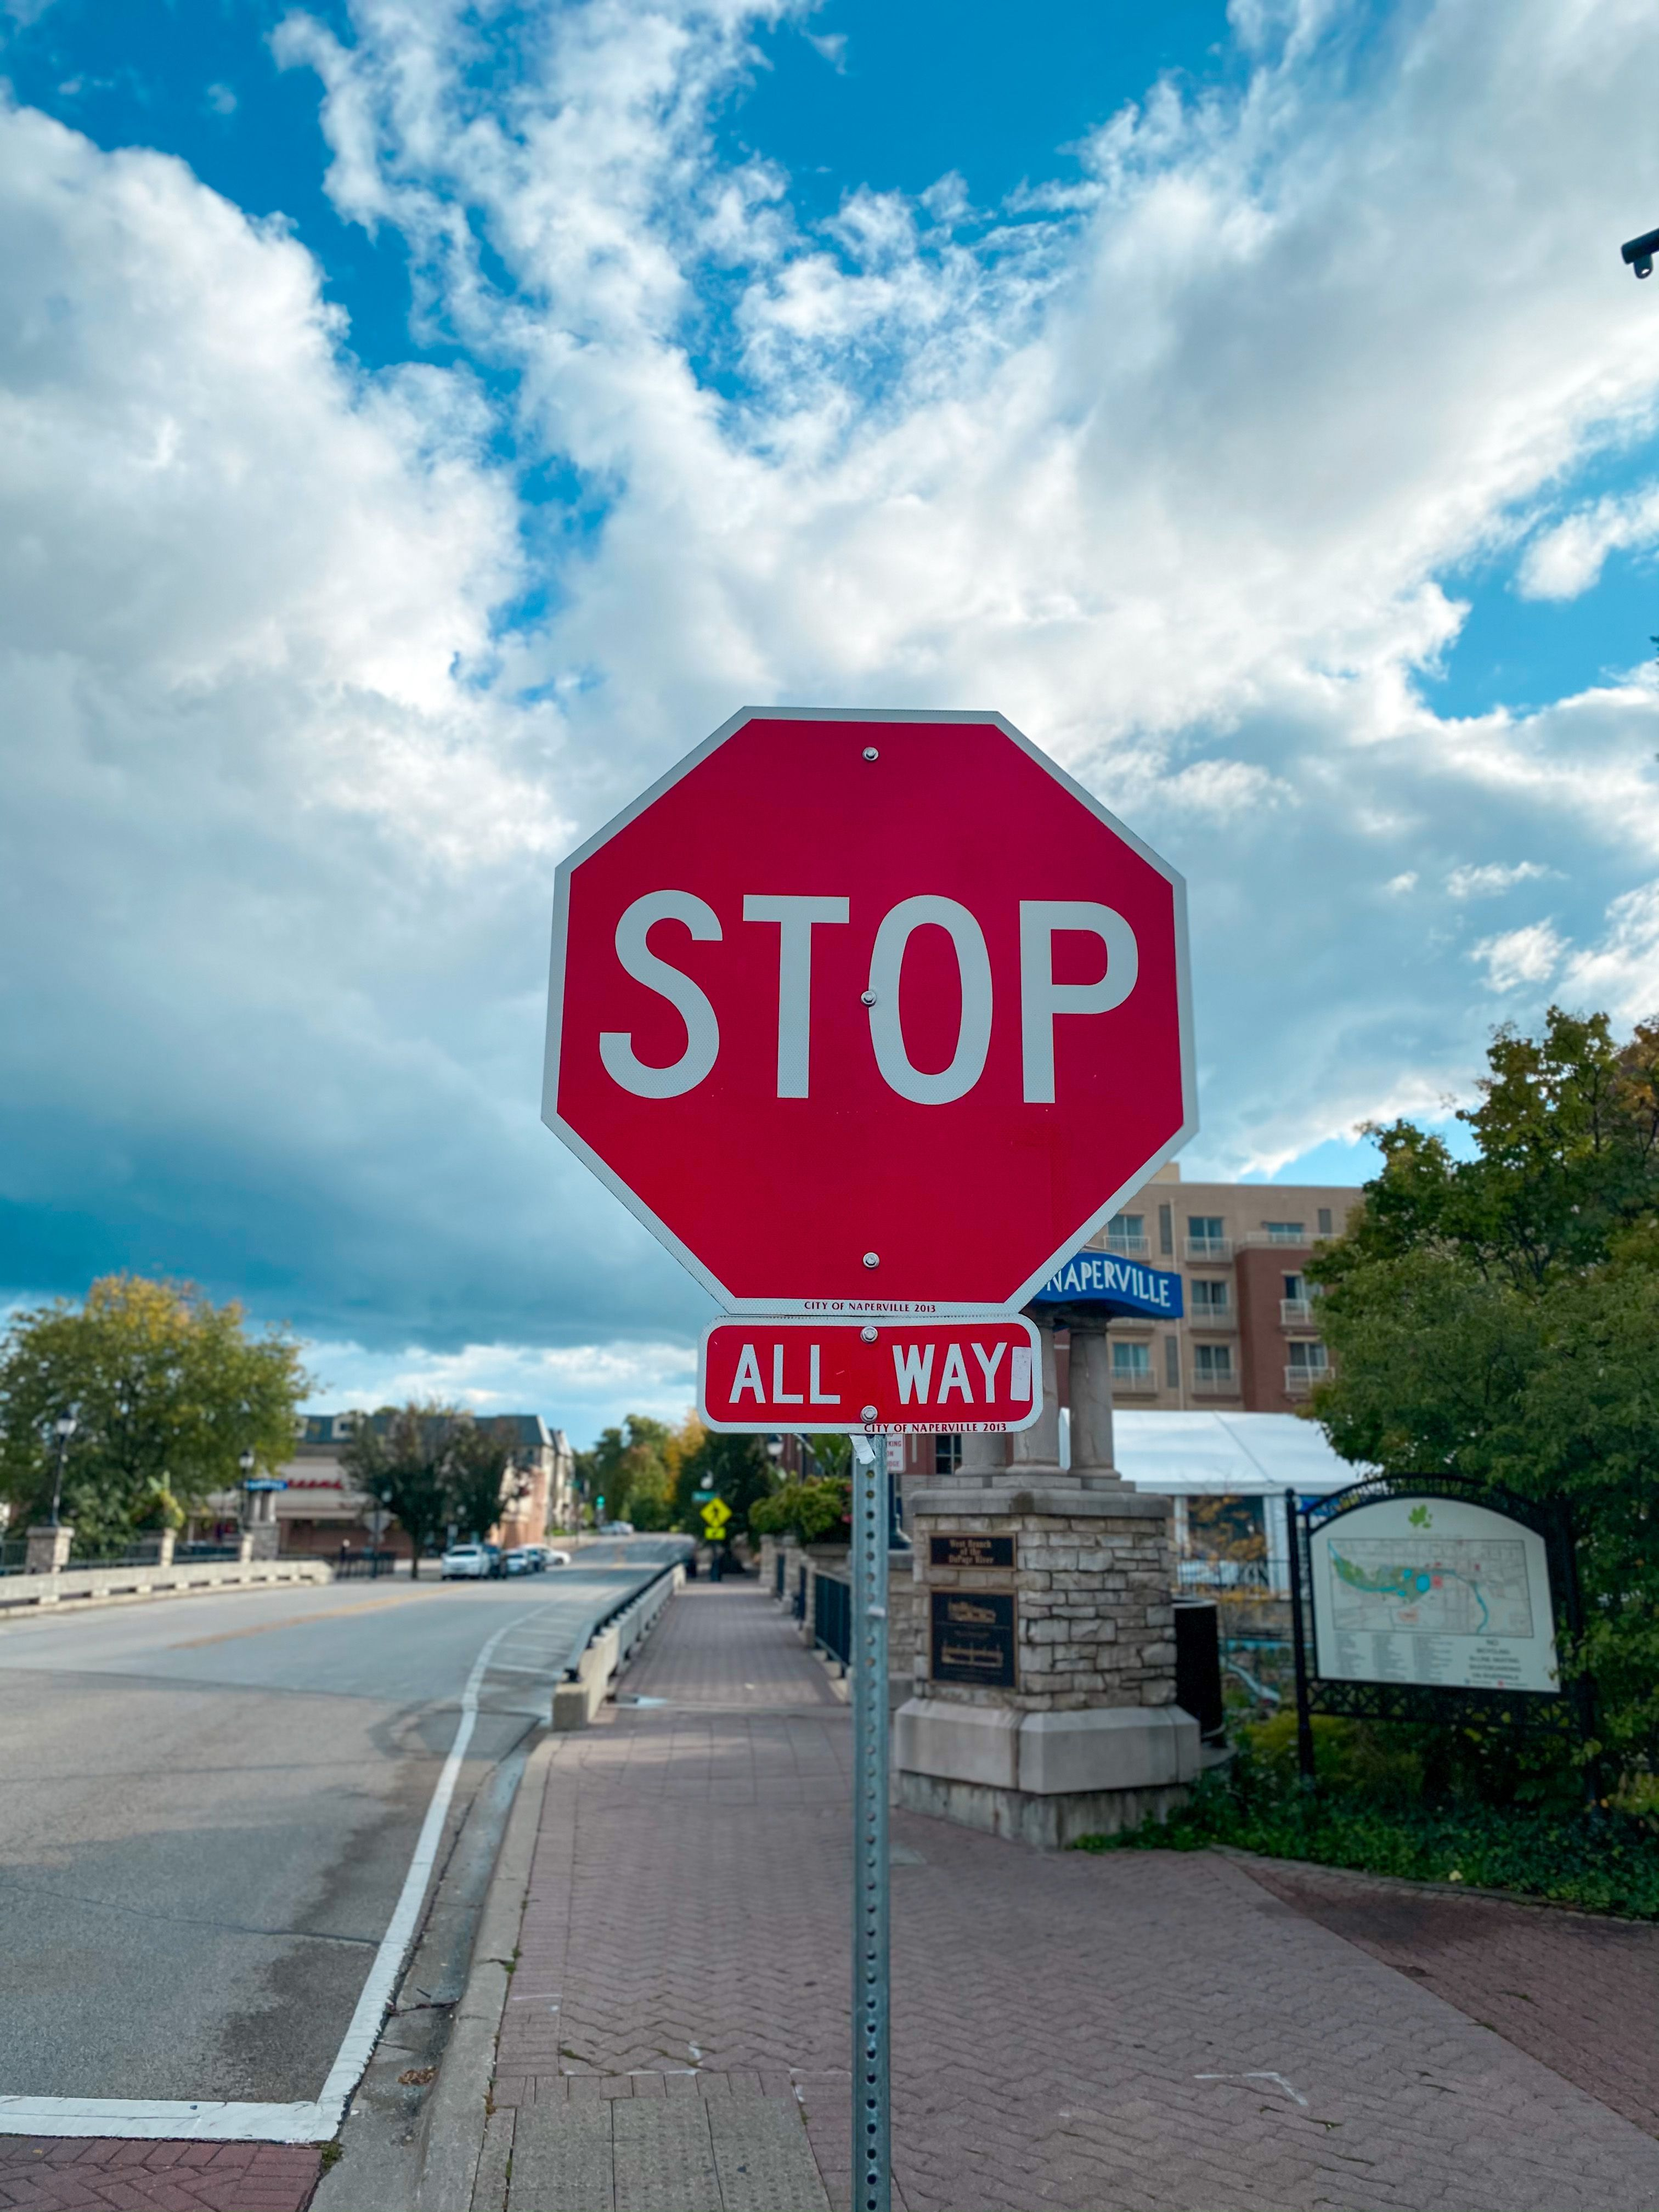STOP: (547, 704, 1211, 1317)
